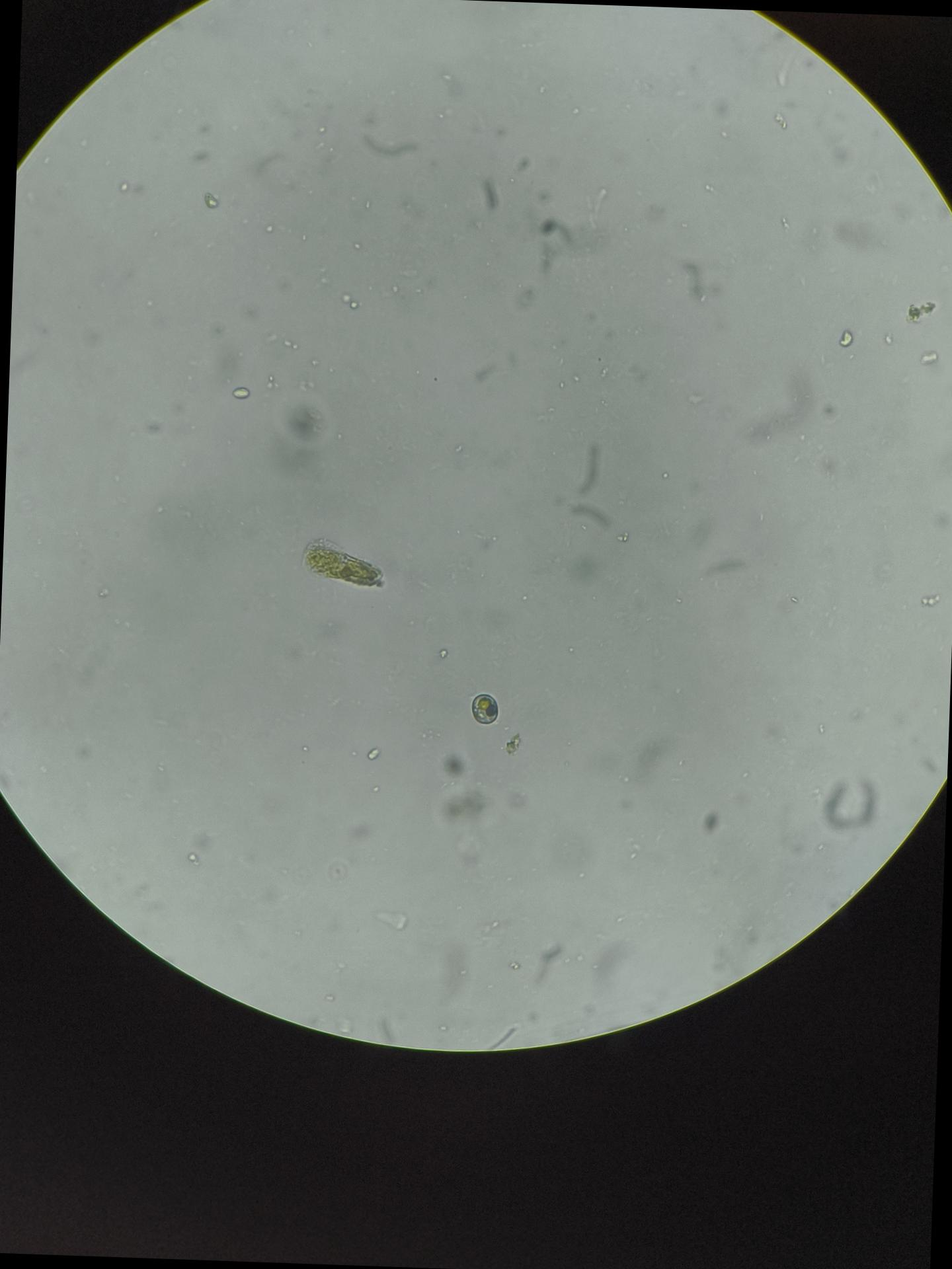Euglena: (289, 530, 397, 600)
